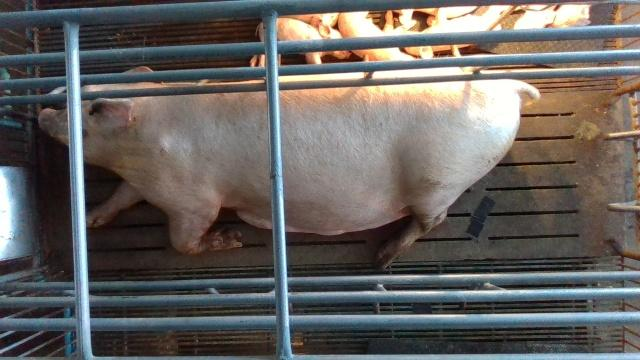piglet: (250, 18, 352, 66), (404, 15, 502, 58), (338, 11, 413, 61)
sow-sleep: (39, 64, 541, 269)
